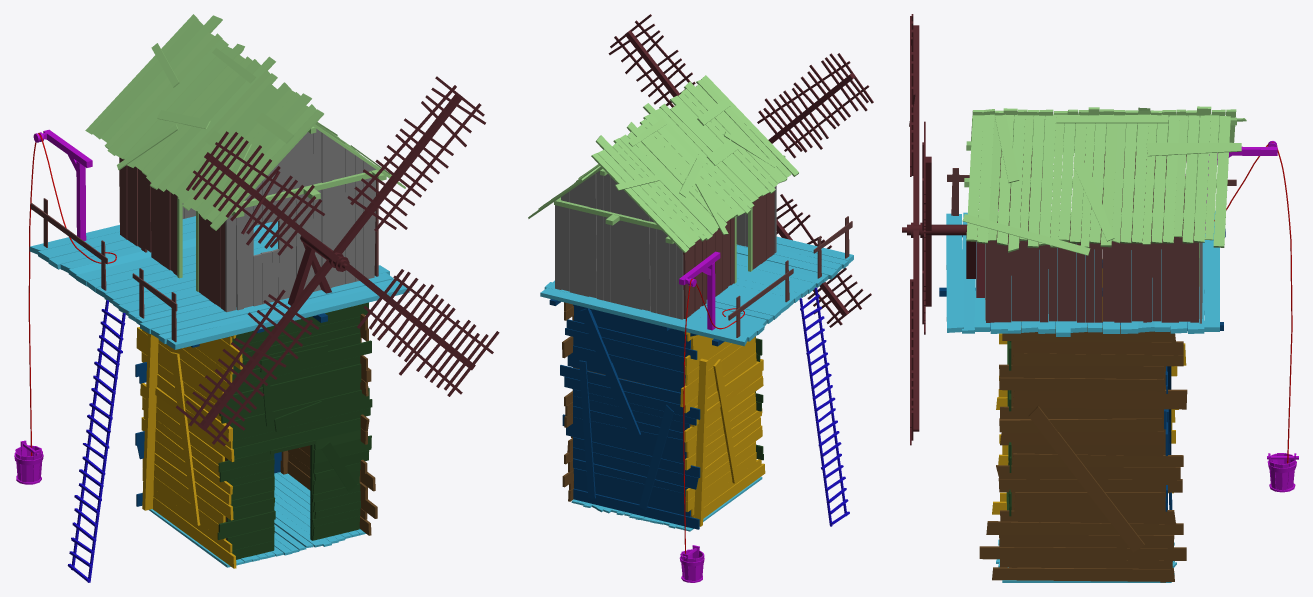
File: wooden_windmill.fbx
3 views of the same model, side by side, from view 1: azimuth 30°, elevation 25°; view 2: azimuth 150°, elevation 25°; view 3: azimuth 270°, elevation 25° (orthographic). The views are drawn at different scales.
Parts seen in each view (by area): view 1: roof, wall_2, wind turbine, floor, wall_1, wall_5, wall_6, stairs, wall_3, lever, rope, wall_4; view 2: wall_4, roof, wall_5, wall_1, floor, wind turbine, wall_6, stairs, lever, wall_3, rope; view 3: wall_3, roof, wall_6, floor, wind turbine, lever, wall_1, wall_4, rope.
Part boxes in pixels (left/top/right/bottom): roof: left=85, top=14, right=405, bottom=291; wall_2: left=217, top=302, right=372, bottom=559; wind turbine: left=176, top=76, right=499, bottom=446; floor: left=29, top=216, right=409, bottom=567; wall_1: left=136, top=327, right=242, bottom=568; wall_5: left=182, top=129, right=376, bottom=312; wall_6: left=30, top=157, right=378, bottom=342; stairs: left=67, top=300, right=125, bottom=582; wall_3: left=225, top=313, right=377, bottom=540; lever: left=14, top=129, right=92, bottom=484; rope: left=28, top=133, right=116, bottom=455; wall_4: left=135, top=313, right=327, bottom=506; wall_4: left=549, top=299, right=724, bottom=529; roof: left=528, top=75, right=798, bottom=283; wall_5: left=555, top=171, right=776, bottom=319; wall_1: left=680, top=332, right=765, bottom=526; floor: left=540, top=236, right=853, bottom=531; wind turbine: left=608, top=14, right=873, bottom=327; wall_6: left=683, top=191, right=852, bottom=337; stairs: left=799, top=287, right=849, bottom=526; lever: left=679, top=251, right=720, bottom=582; wall_3: left=562, top=302, right=692, bottom=527; rope: left=683, top=279, right=744, bottom=553; wall_3: left=979, top=325, right=1187, bottom=582; roof: left=962, top=106, right=1246, bottom=286; wall_6: left=947, top=150, right=1236, bottom=322; floor: left=946, top=211, right=1219, bottom=582; wind turbine: left=902, top=14, right=984, bottom=445; lever: left=1205, top=141, right=1298, bottom=492; wall_1: left=992, top=268, right=1186, bottom=514; wall_4: left=939, top=229, right=1225, bottom=561; rope: left=1214, top=142, right=1292, bottom=463.
Bounding box in the file's own units: 710 × 936 × 703.
